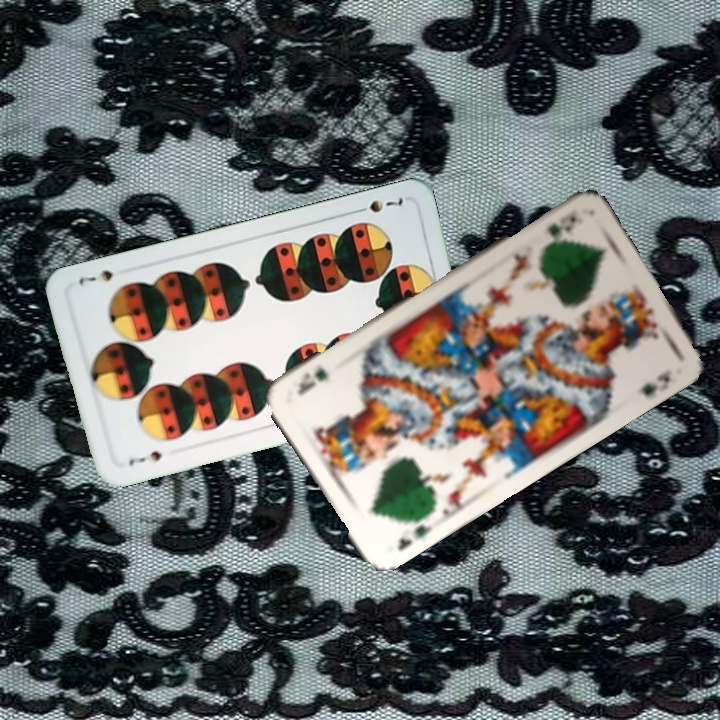GK: (393, 521, 436, 553), (542, 211, 579, 240)
S7: (350, 193, 406, 216), (125, 447, 167, 468)
